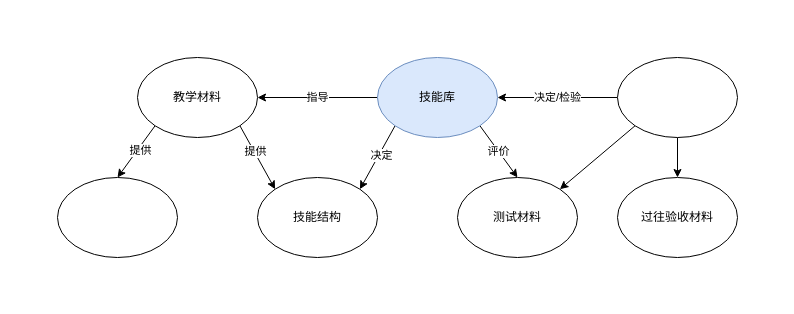
The diagram is 794 pixels wide and 314 high, and some of its shapes have lost their labels. The box of each missing label's shape, as (x1, y1, x2, y2) in pixels:
单一知识点: (56, 176, 178, 258)
验收材料: (616, 56, 738, 138)
